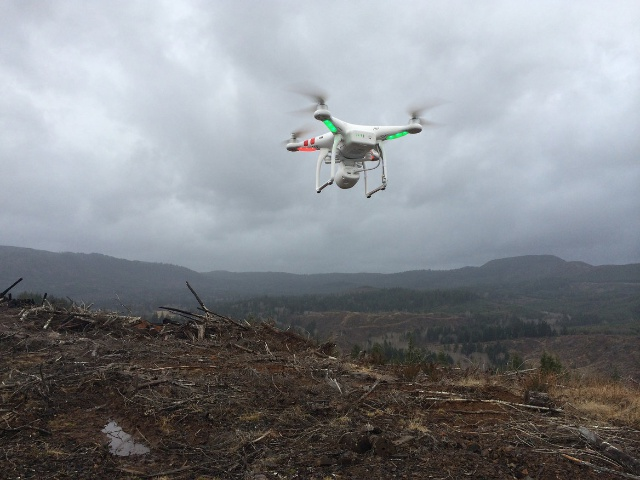drone: (275, 74, 447, 206)
